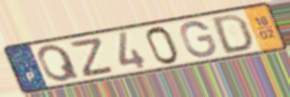0: (144, 25, 182, 66)
4: (117, 29, 149, 71)
D: (211, 13, 256, 56)
G: (179, 20, 219, 59)
Q: (36, 43, 83, 83)
Z: (69, 35, 117, 79)
